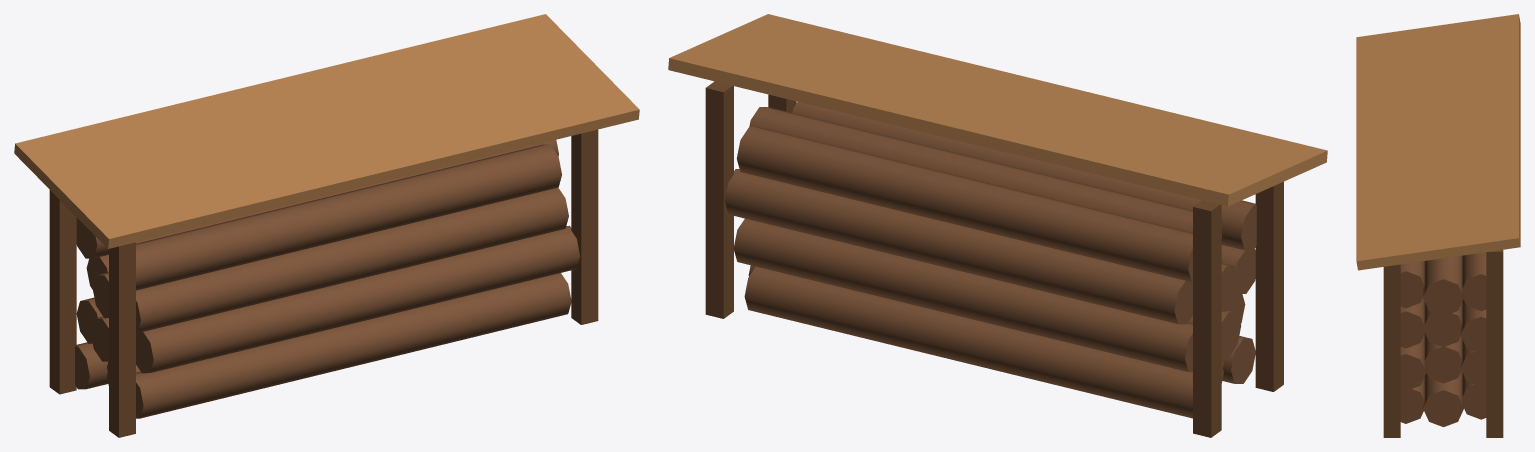
Rendered from prop_firewood_stack.glb.
3 renders of one model, left to right at view 1: azimuth 30°, elevation 25°; view 2: azimuth 150°, elevation 25°; view 3: azimuth 270°, elevation 25°, orthographic. The views are drawn at different scales.
Visible parts, largest first — view 1: Prop_Firewood_Stack; view 2: Prop_Firewood_Stack; view 3: Prop_Firewood_Stack.
Part boxes in pixels (x1,y1,x2,y2): Prop_Firewood_Stack: (14,14,639,437); Prop_Firewood_Stack: (668,14,1327,437); Prop_Firewood_Stack: (1356,14,1520,437).
Bounding box in the file's own units: 3.1 × 1.36 × 0.9594.
